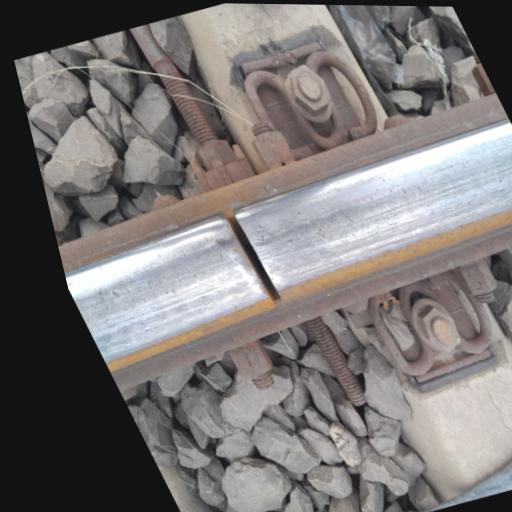bolt: (394, 289, 481, 371), (270, 54, 346, 124)
broken_rail: (76, 129, 512, 378)
clip: (210, 23, 410, 170), (333, 259, 512, 405)
